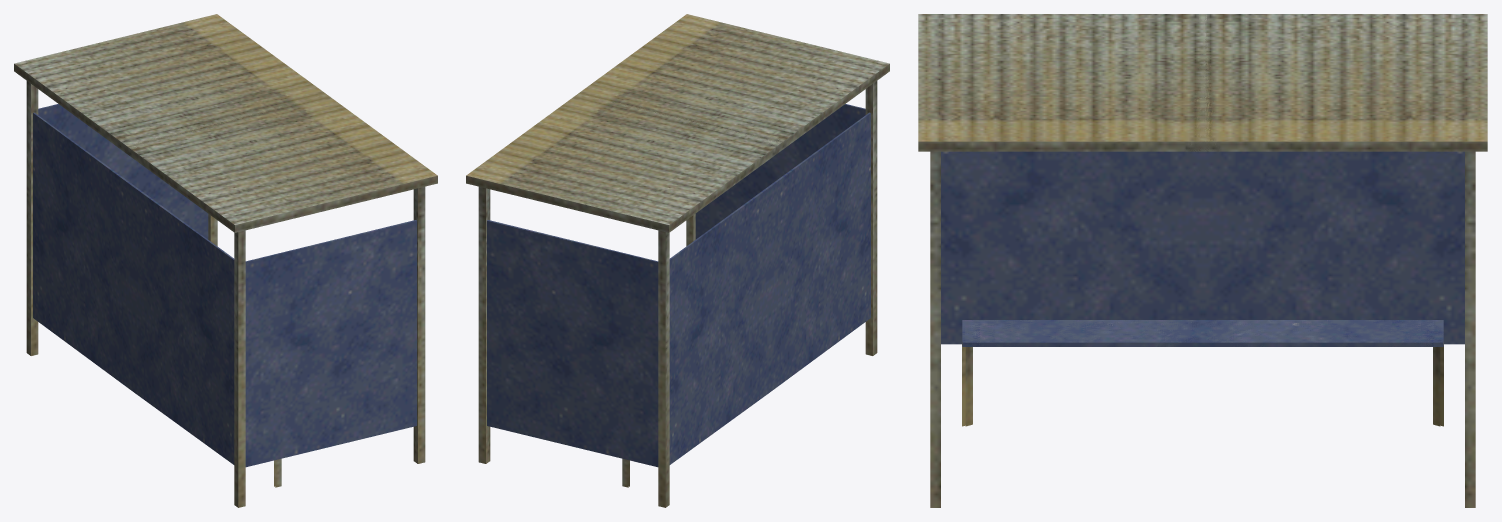
Rendered from Urban_BusstopCleanBench_Model.fbx.
3 views of the same model, side by side, from view 1: azimuth 30°, elevation 25°; view 2: azimuth 150°, elevation 25°; view 3: azimuth 270°, elevation 25° (orthographic). The views are drawn at different scales.
Visible parts, largest first — view 1: Urban_BusstopCleanBench_Mesh; view 2: Urban_BusstopCleanBench_Mesh; view 3: Urban_BusstopCleanBench_Mesh.
Part boxes in pixels (<box>): Urban_BusstopCleanBench_Mesh: <box>14,14,437,507</box>; Urban_BusstopCleanBench_Mesh: <box>466,14,889,507</box>; Urban_BusstopCleanBench_Mesh: <box>918,14,1487,507</box>.
Bounding box in the file's own units: 2.26 × 3.08 × 4.26.
